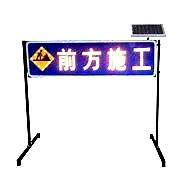sign: (25, 42, 158, 74)
